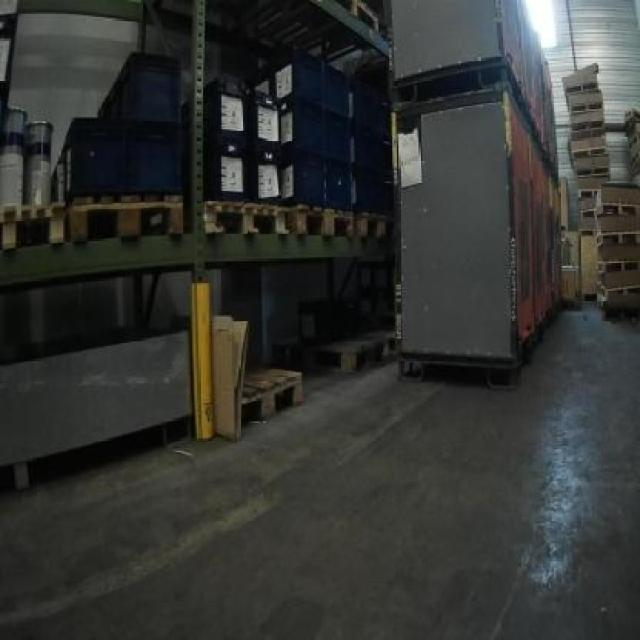floor: (0, 306, 637, 637)
pallets: (391, 0, 557, 368), (560, 62, 637, 315)
